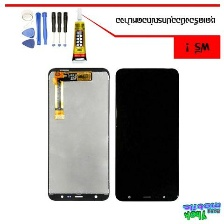phone: (113, 65, 182, 207), (44, 66, 109, 204)
